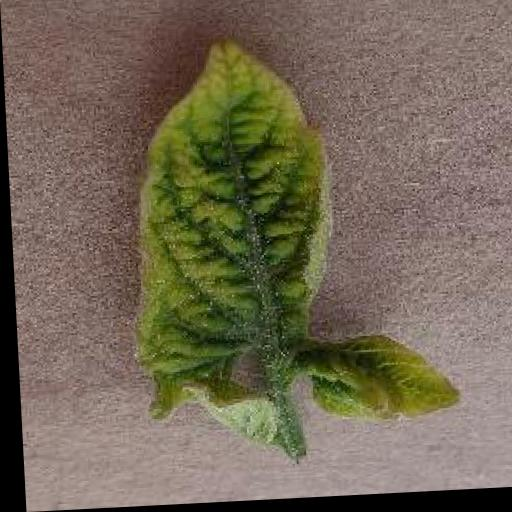Yellow Leaf Curl Virus: (116, 31, 459, 450)
